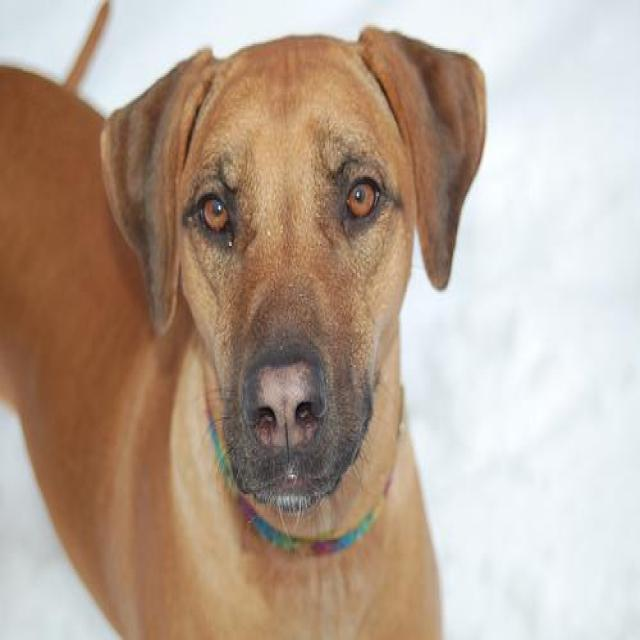rhodesian_ridgeback: (0, 0, 486, 638)
